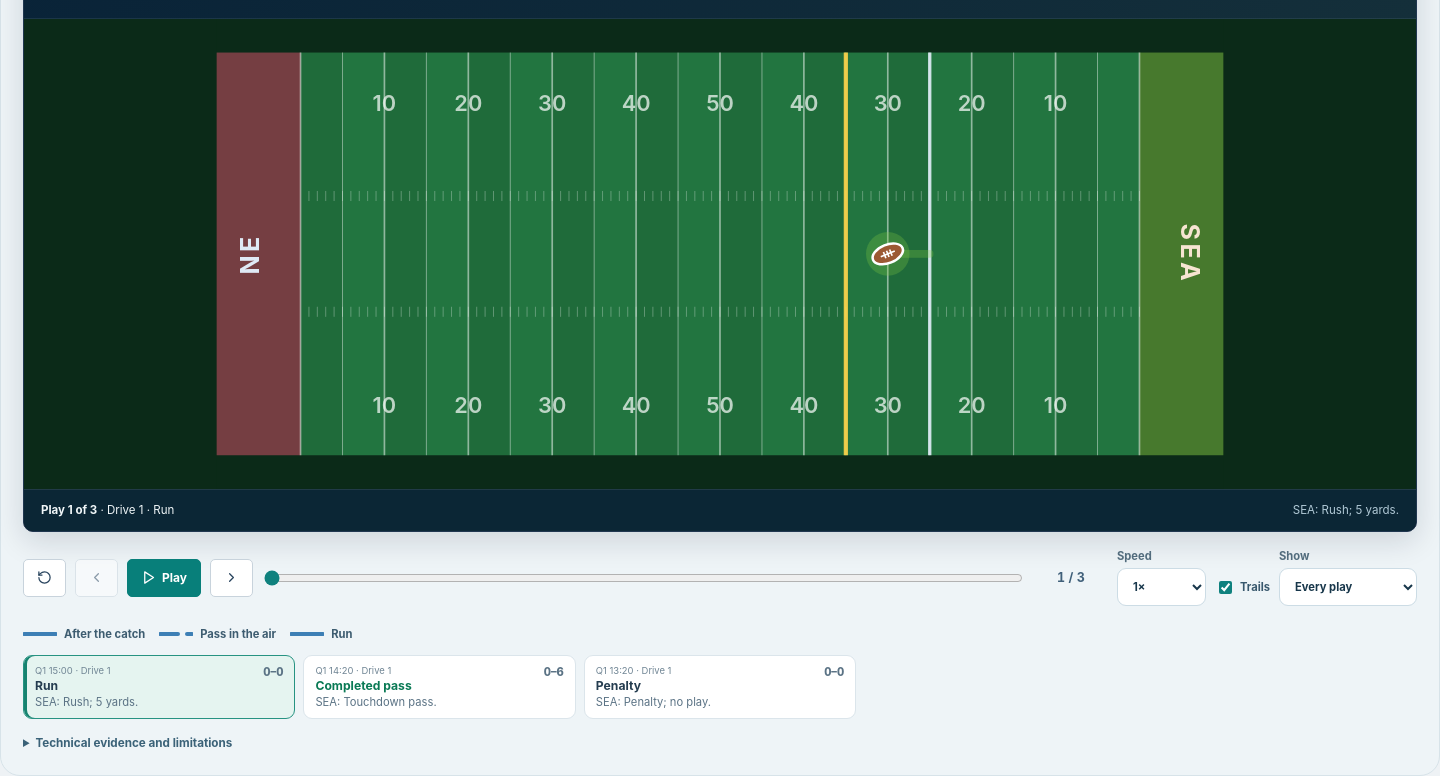
Test case: play theater › filters the play list to scoring plays
(page scrolled)
Select "Scoring plays" in the dropdown labelled "Show" at (1348, 587), box 1279,568 -> 1417,606
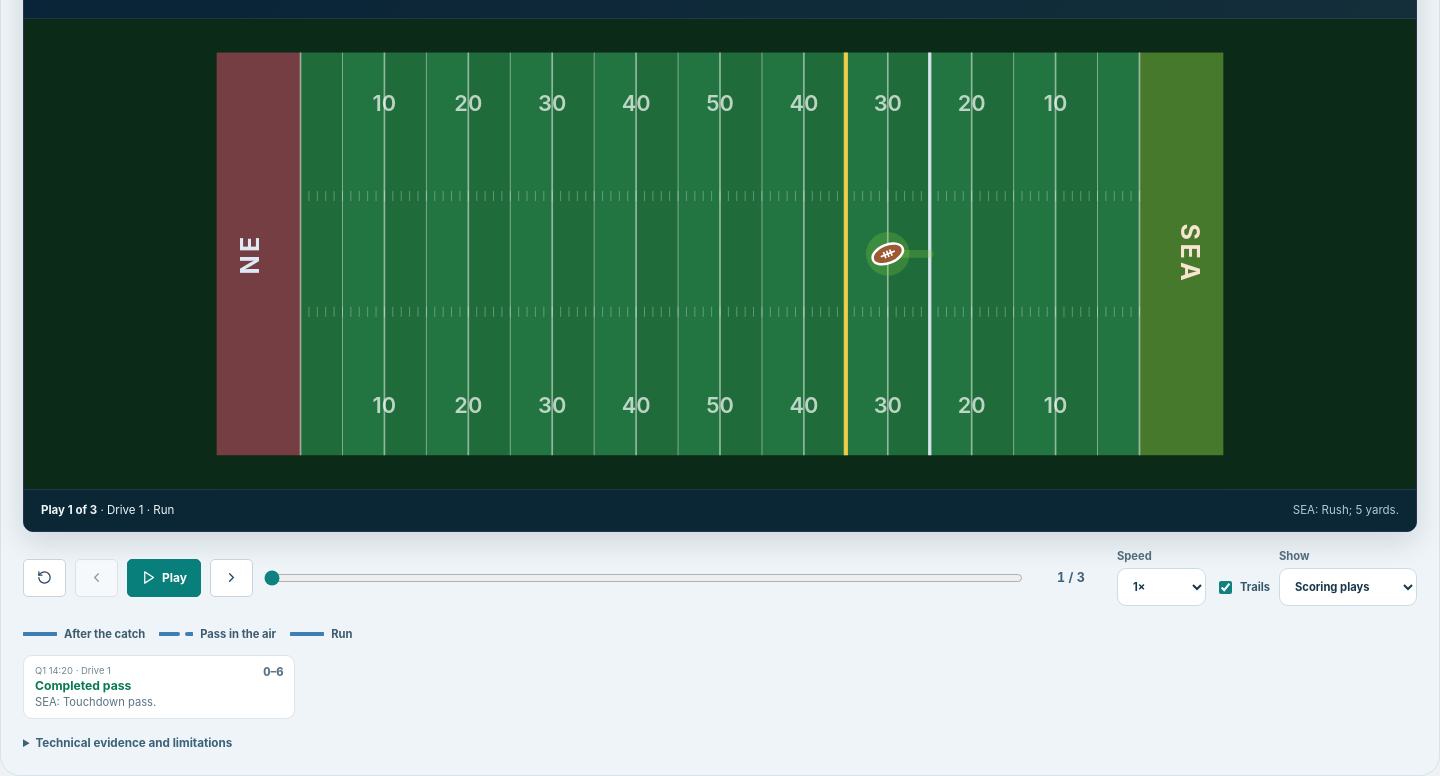
Now the number of list items is 1, box 23,655 -> 295,719
